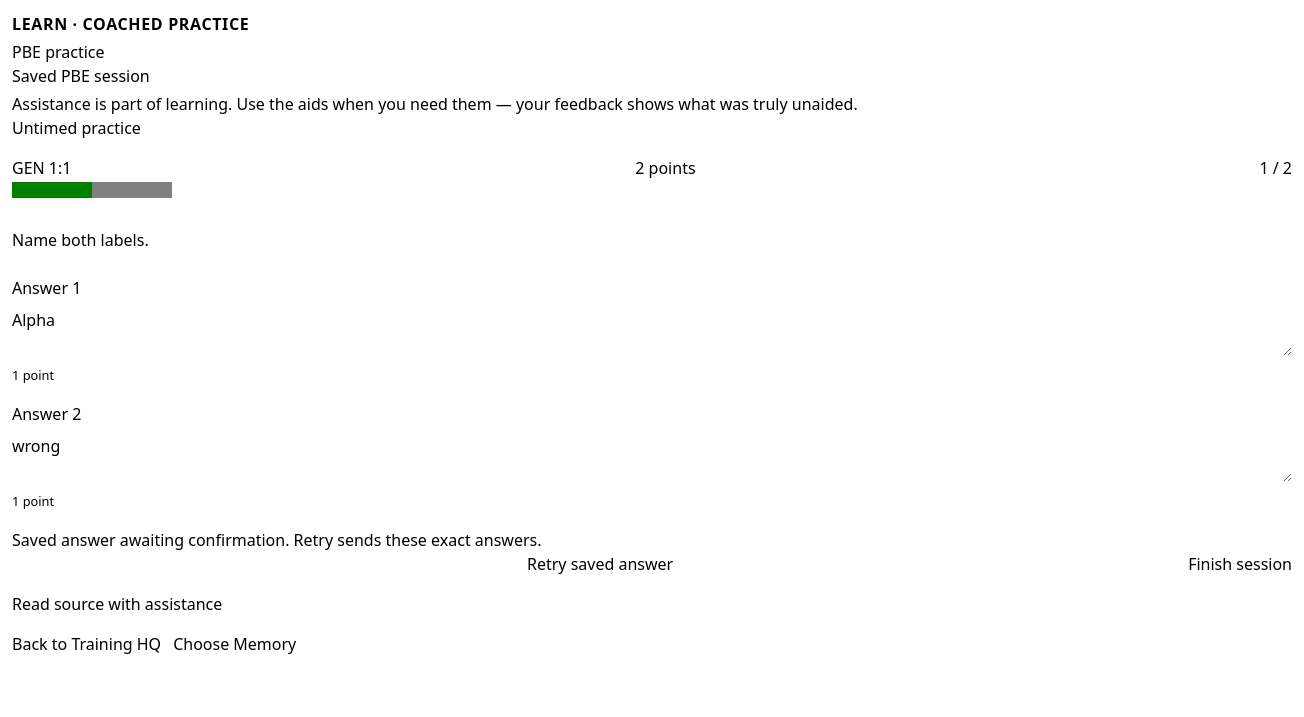
restores and retries the exact pending text without permitting a changed answer
Check: the text box labelled "Answer 1" holds "Alpha", box [12, 308, 1292, 356]
Check: the text box labelled "Answer 1" is disabled, box [12, 308, 1292, 356]
What coordinates should you click on to do the following:
click the button "Retry saved answer"
I would click on:
 (600, 564)
Its box is [12, 552, 1188, 576].
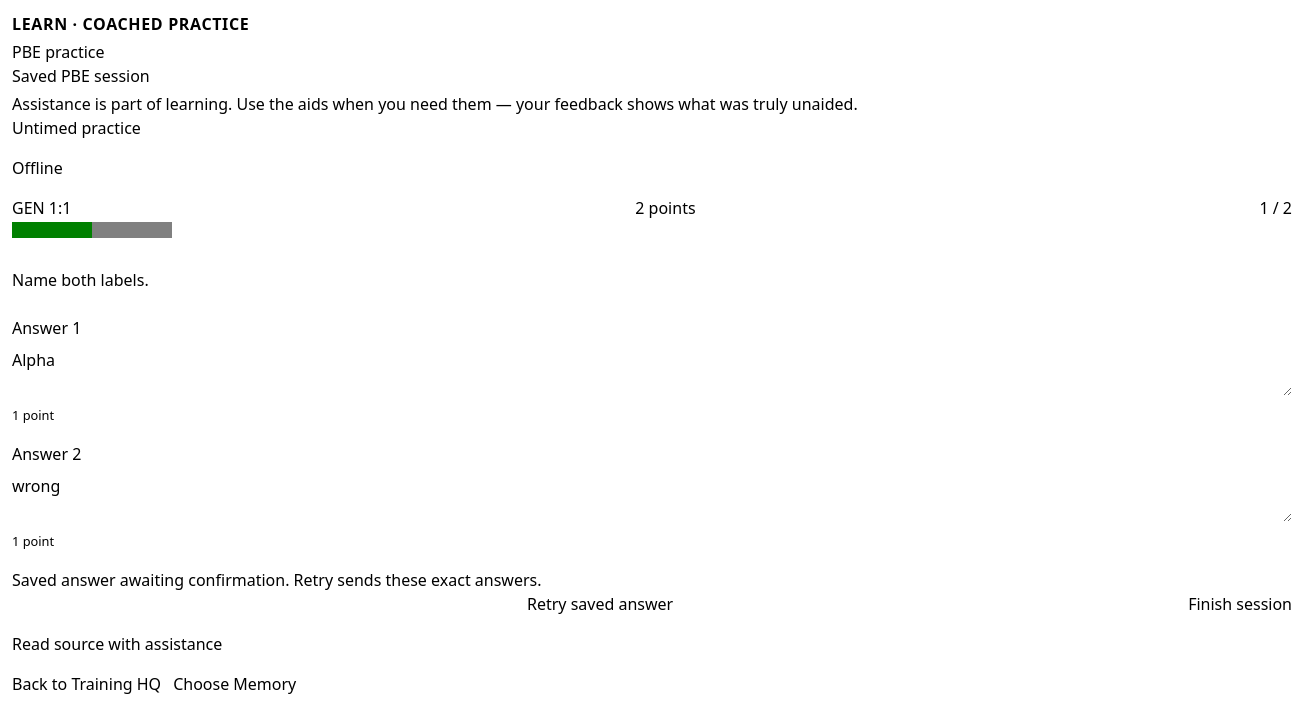
Check: the text "Offline" is shown, box [12, 157, 63, 179]
What coordinates should you click on to do the following:
click the button "Retry saved answer"
I would click on:
 (600, 604)
Its box is [12, 592, 1188, 616].
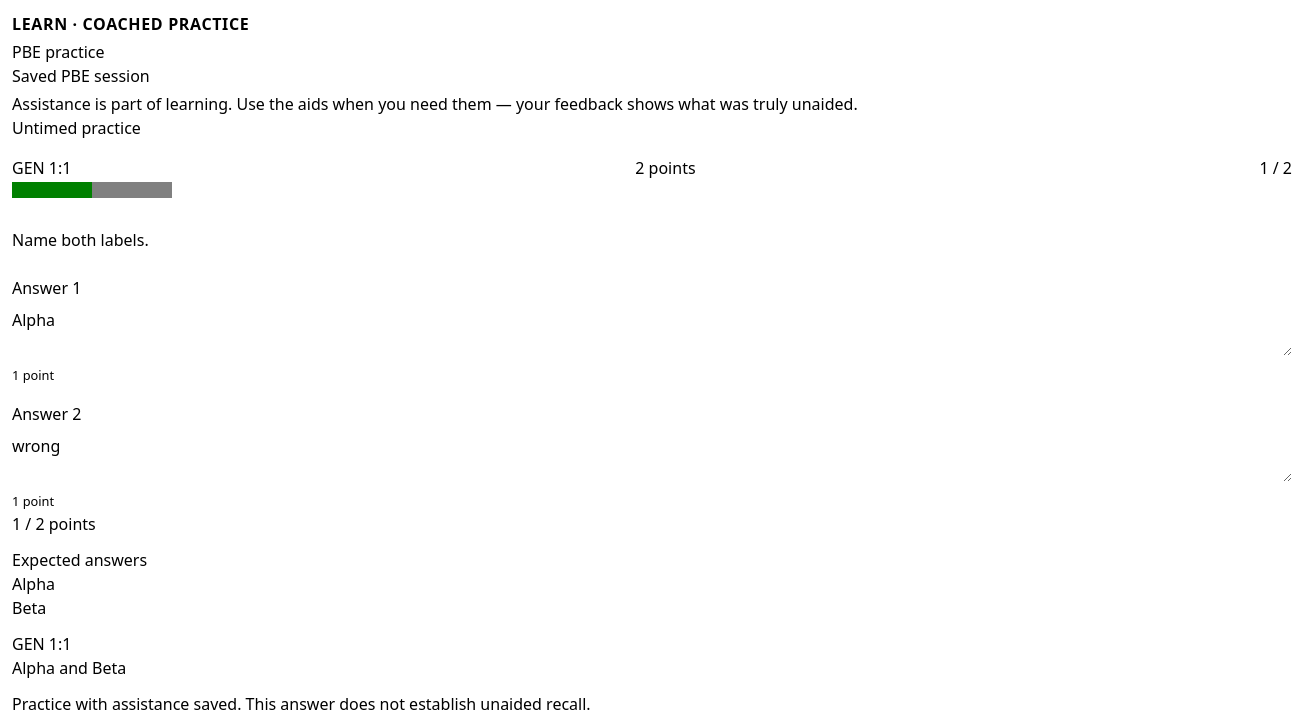
Check: the text "1 / 2 points" is shown, box [12, 513, 96, 535]
